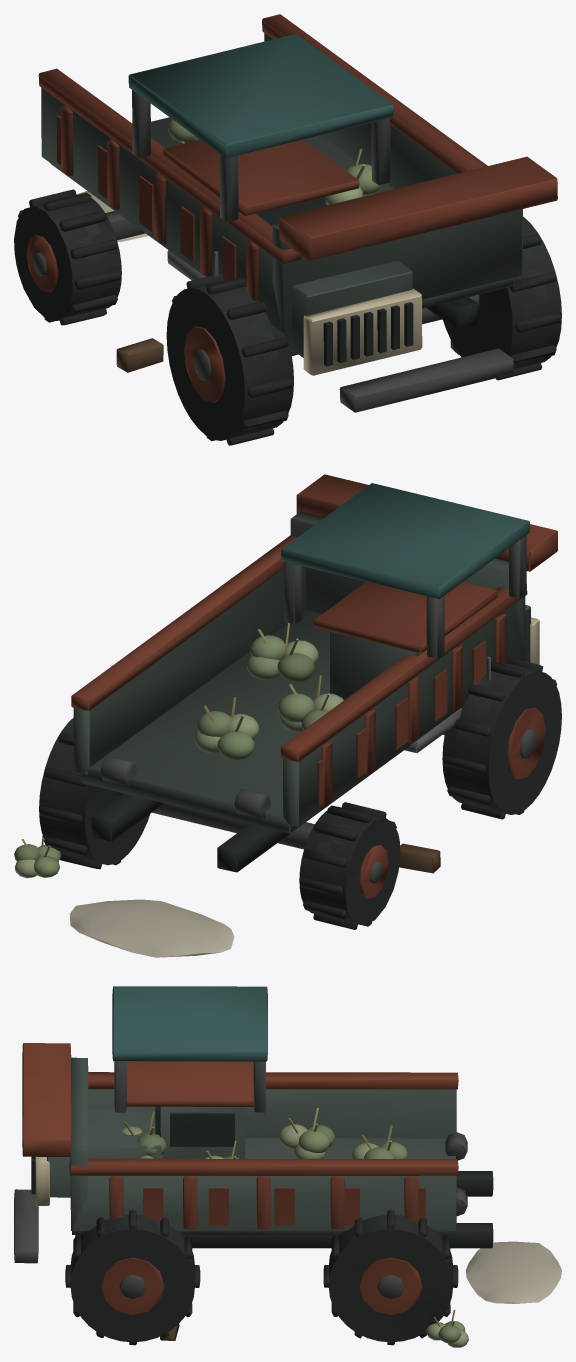
The model's file is haul_truck_c_lod1.glb.
3 renders of one model, top to bottom at view 1: azimuth 30°, elevation 25°; view 2: azimuth 150°, elevation 25°; view 3: azimuth 270°, elevation 25°, orthographic. The views are drawn at different scales.
Parts seen in each view (by area): view 1: Surface.001; view 2: Surface.001; view 3: Surface.001.
Part boxes in pixels (x1,y1,x2,y2): Surface.001: (14, 14, 561, 445); Surface.001: (14, 474, 561, 957); Surface.001: (14, 986, 561, 1347).
Size of the model in its own units: 7.8 by 6.5 by 13.37.
